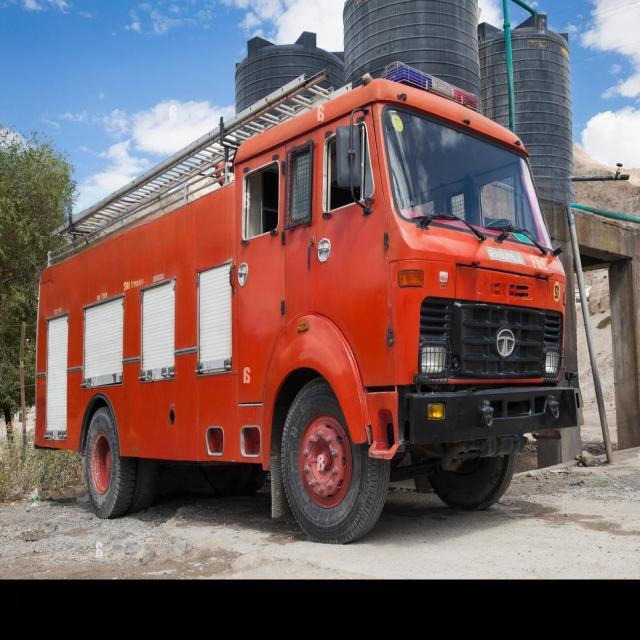emergency: (36, 63, 580, 545)
